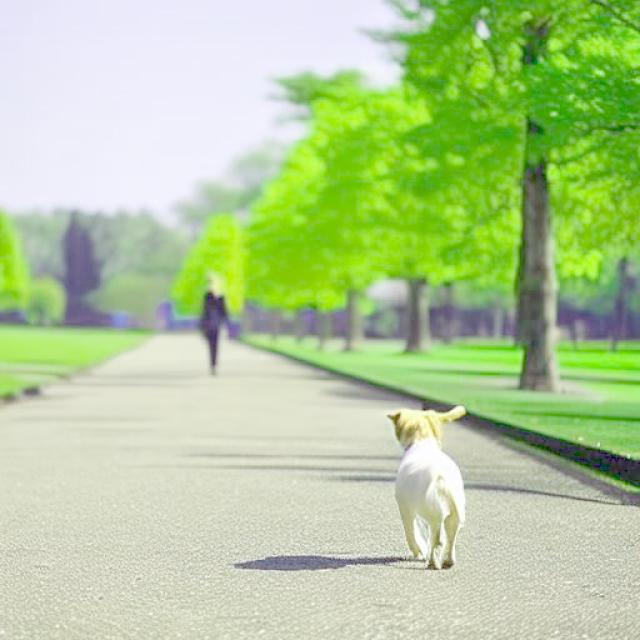Dog: (385, 406, 466, 570)
